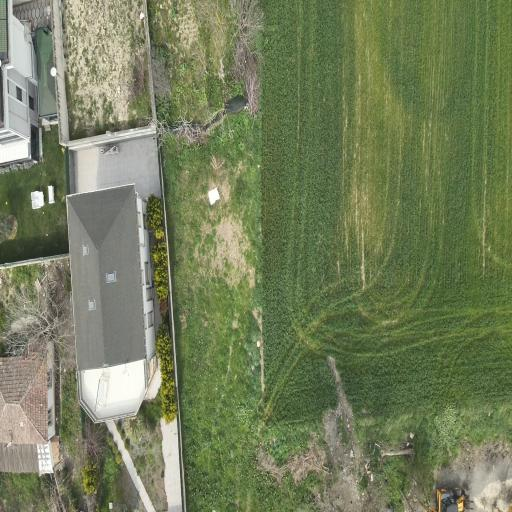car: (431, 487, 469, 511)
